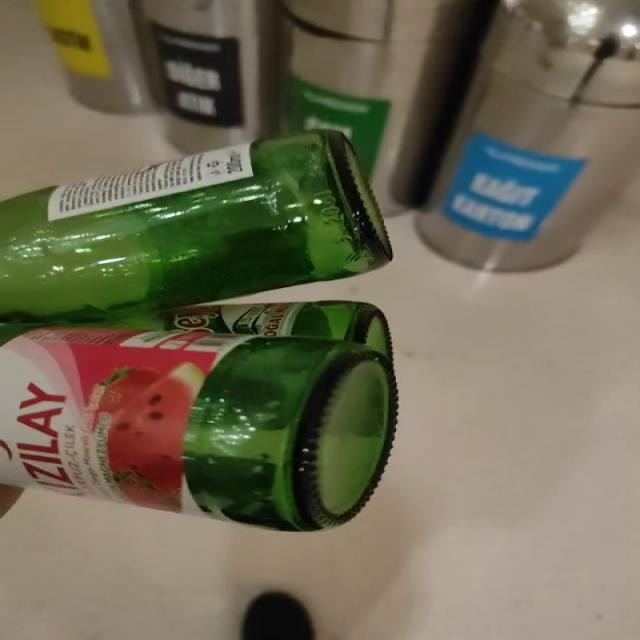glass: (0, 130, 397, 532)
